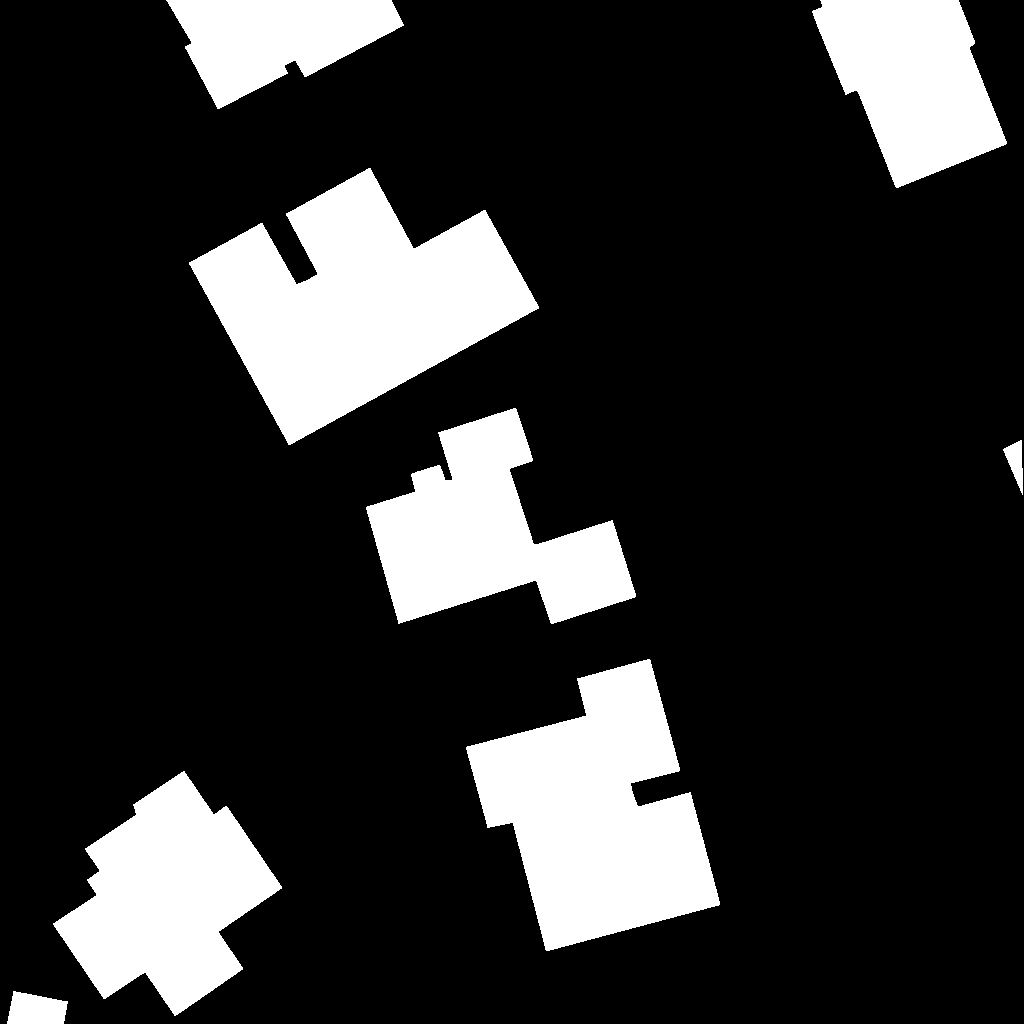building: (189, 168, 540, 446), (466, 659, 721, 952), (366, 408, 637, 625), (53, 771, 283, 1017), (812, 0, 1008, 189), (166, 0, 405, 110), (7, 991, 69, 1024), (1003, 440, 1024, 497)
